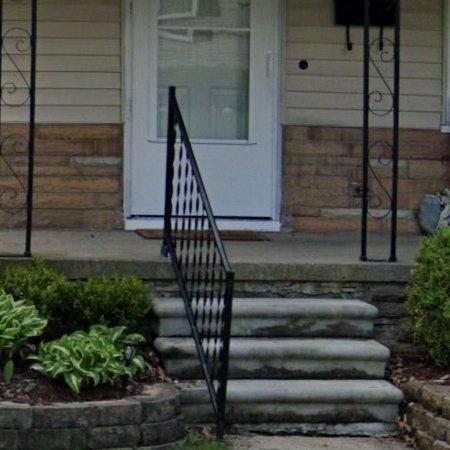stairs: (228, 292, 404, 436), (155, 288, 213, 424)
